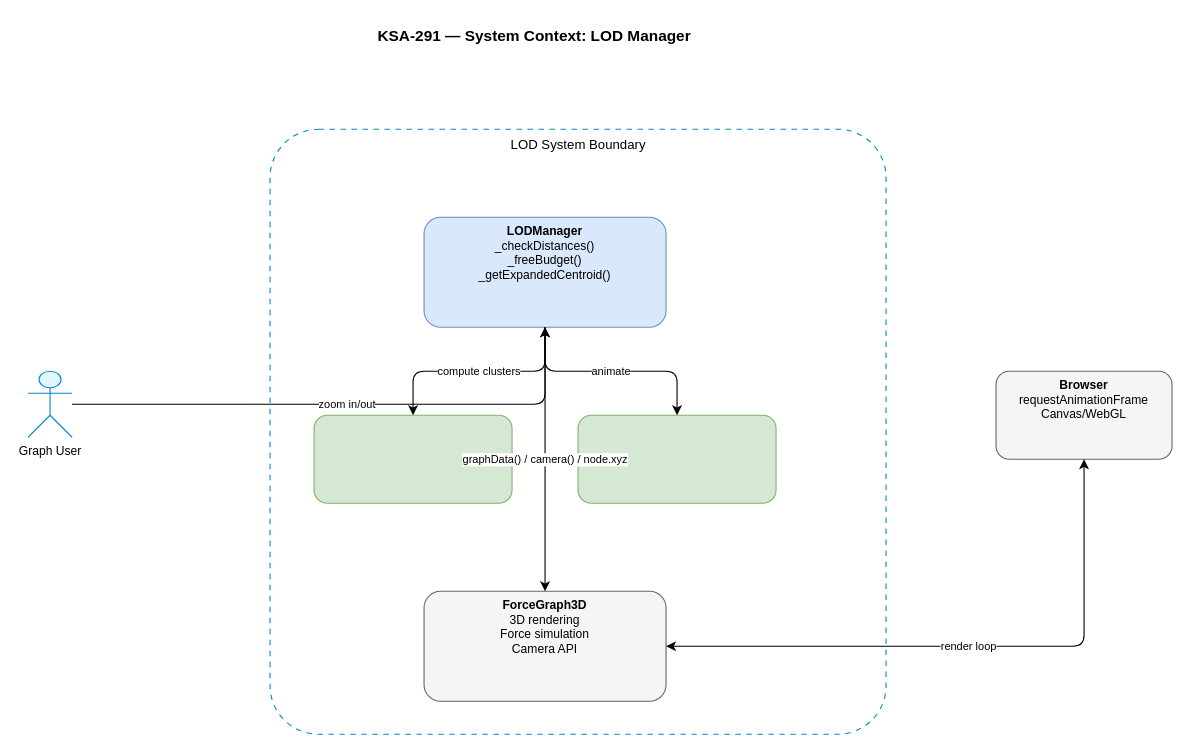
The diagram is 1191 pixels wide and 754 high, and some of its shapes have lost their labels. The shapes that lost their labels are listed below. From the top down, each one's centre as x and y in pixels, then its label:
At point (412, 458): "LODClustering compute() Louvain algorithm".
At point (676, 458): "LODAnimation expand() / collapse() orbital positions".
